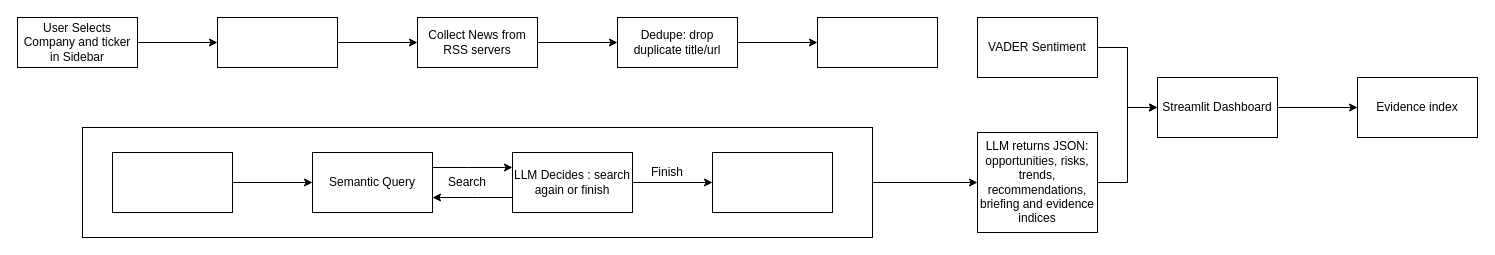
The diagram is 1495 pixels wide and 255 high, and some of its shapes have lost their labels. The shapes that lost their labels are listed below. From the top down, each one's centre as x and y in pixels, then its label:
point 277,42: Build company, ticker
point 877,42: Index: embed + upsert to Chroma DB
point 172,182: Analyse Company
point 772,182: Final Synthesis Call
